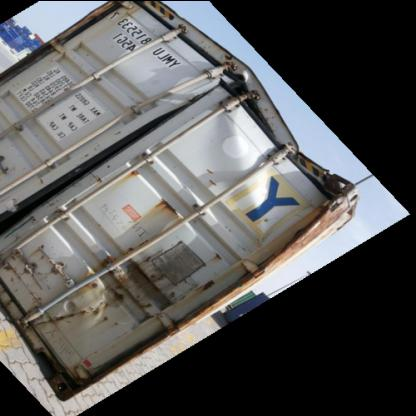Damage: (242, 121, 348, 275), (26, 240, 160, 336), (207, 61, 272, 115), (151, 180, 191, 223), (176, 272, 222, 308)
